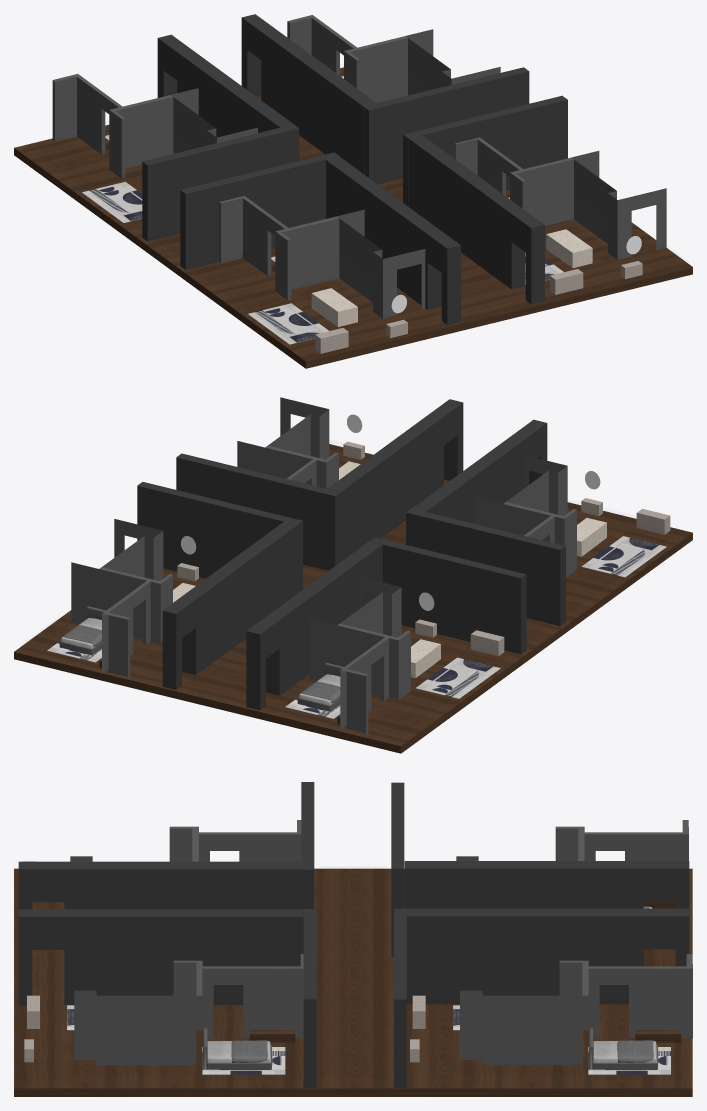
The model's file is Room_Interior.glb.
3 renders of one model, top to bottom at view 1: azimuth 30°, elevation 25°; view 2: azimuth 150°, elevation 25°; view 3: azimuth 270°, elevation 25°, orthographic. The views are drawn at different scales.
Parts seen in each view (by area): view 1: walls, BASE, FLAT_3, FLAT_1, FLAT_2, FLAT_4; view 2: walls, BASE, FLAT_2, FLAT_4, FLAT_3, FLAT_1; view 3: walls, BASE, FLAT_4, FLAT_1, FLAT_2, FLAT_3.
Boxes of the visible parts, x1=… form: walls: x1=142, y1=14, x2=567, y2=324; BASE: x1=14, y1=67, x2=692, y2=368; FLAT_3: x1=219, y1=196, x2=425, y2=353; FLAT_1: x1=454, y1=137, x2=666, y2=294; FLAT_2: x1=52, y1=74, x2=257, y2=222; FLAT_4: x1=287, y1=15, x2=500, y2=102; walls: x1=137, y1=399, x2=565, y2=710; BASE: x1=14, y1=444, x2=692, y2=753; FLAT_2: x1=285, y1=577, x2=504, y2=735; FLAT_4: x1=47, y1=519, x2=198, y2=678; FLAT_3: x1=475, y1=455, x2=670, y2=577; FLAT_1: x1=237, y1=397, x2=364, y2=488; walls: x1=18, y1=782, x2=689, y2=1087; BASE: x1=14, y1=868, x2=692, y2=1096; FLAT_4: x1=410, y1=954, x2=692, y2=1074; FLAT_1: x1=24, y1=954, x2=303, y2=1074; FLAT_2: x1=456, y1=820, x2=688, y2=908; FLAT_3: x1=23, y1=820, x2=301, y2=861.
Size of the model in its own units: 24.5 by 5.05 by 32.02.
11 materials, 5 textured.
